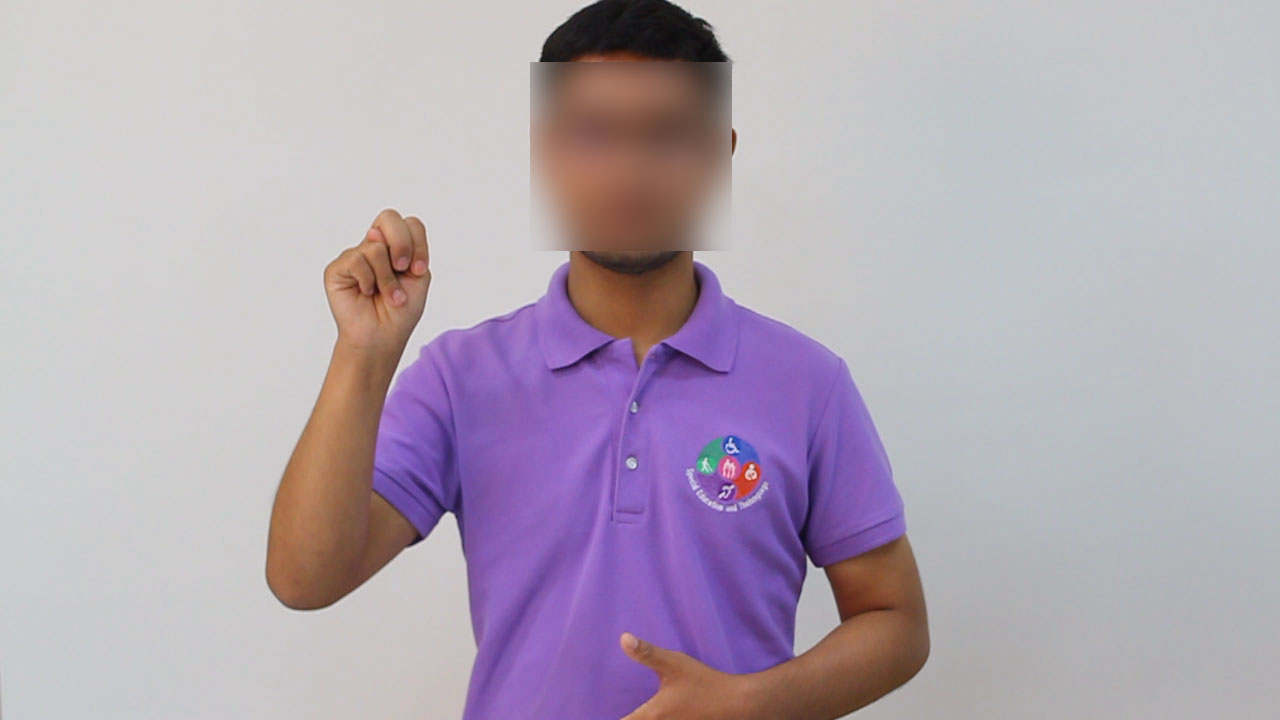nor: (315, 197, 445, 351)
